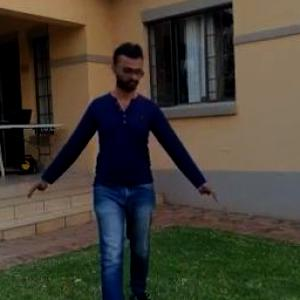land: (22, 32, 223, 299)
